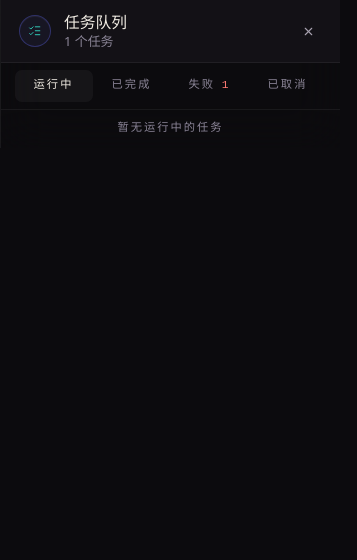
Test case: Storyboard task queue terminal failures › hides an unknown English task error from the Chinese failure surface
Click the tab "失败1". click: x=210, y=86
box: left=170, top=70, right=248, bottom=102
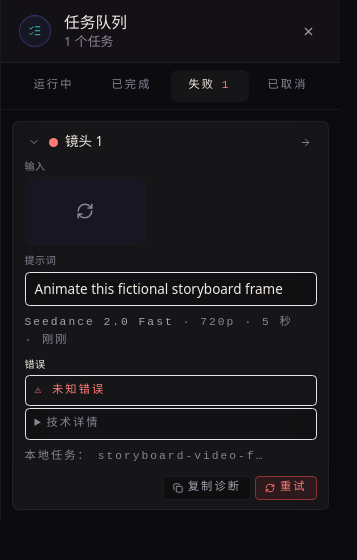
Now the text "⚠ 未知错误" is shown, box left=24, top=375, right=316, bottom=406
Click the heading "技术详情". click: x=73, y=423
box: left=46, top=417, right=100, bottom=429
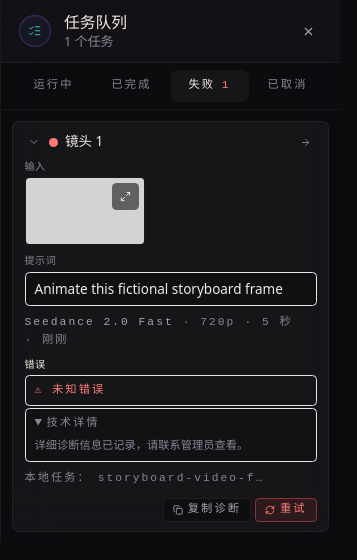
Now the text "详细诊断信息已记录，请联系管理员查看。" is shown, box left=34, top=440, right=248, bottom=452
